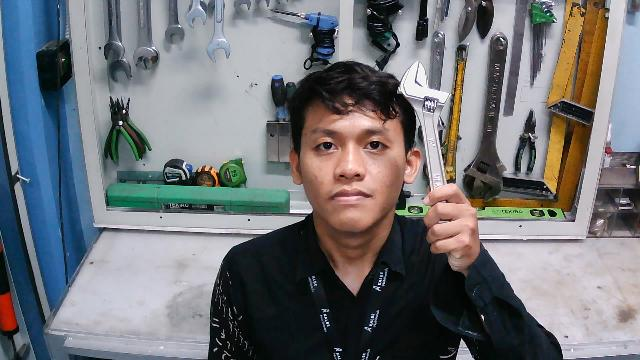kunci_inggris: (397, 61, 453, 234)
